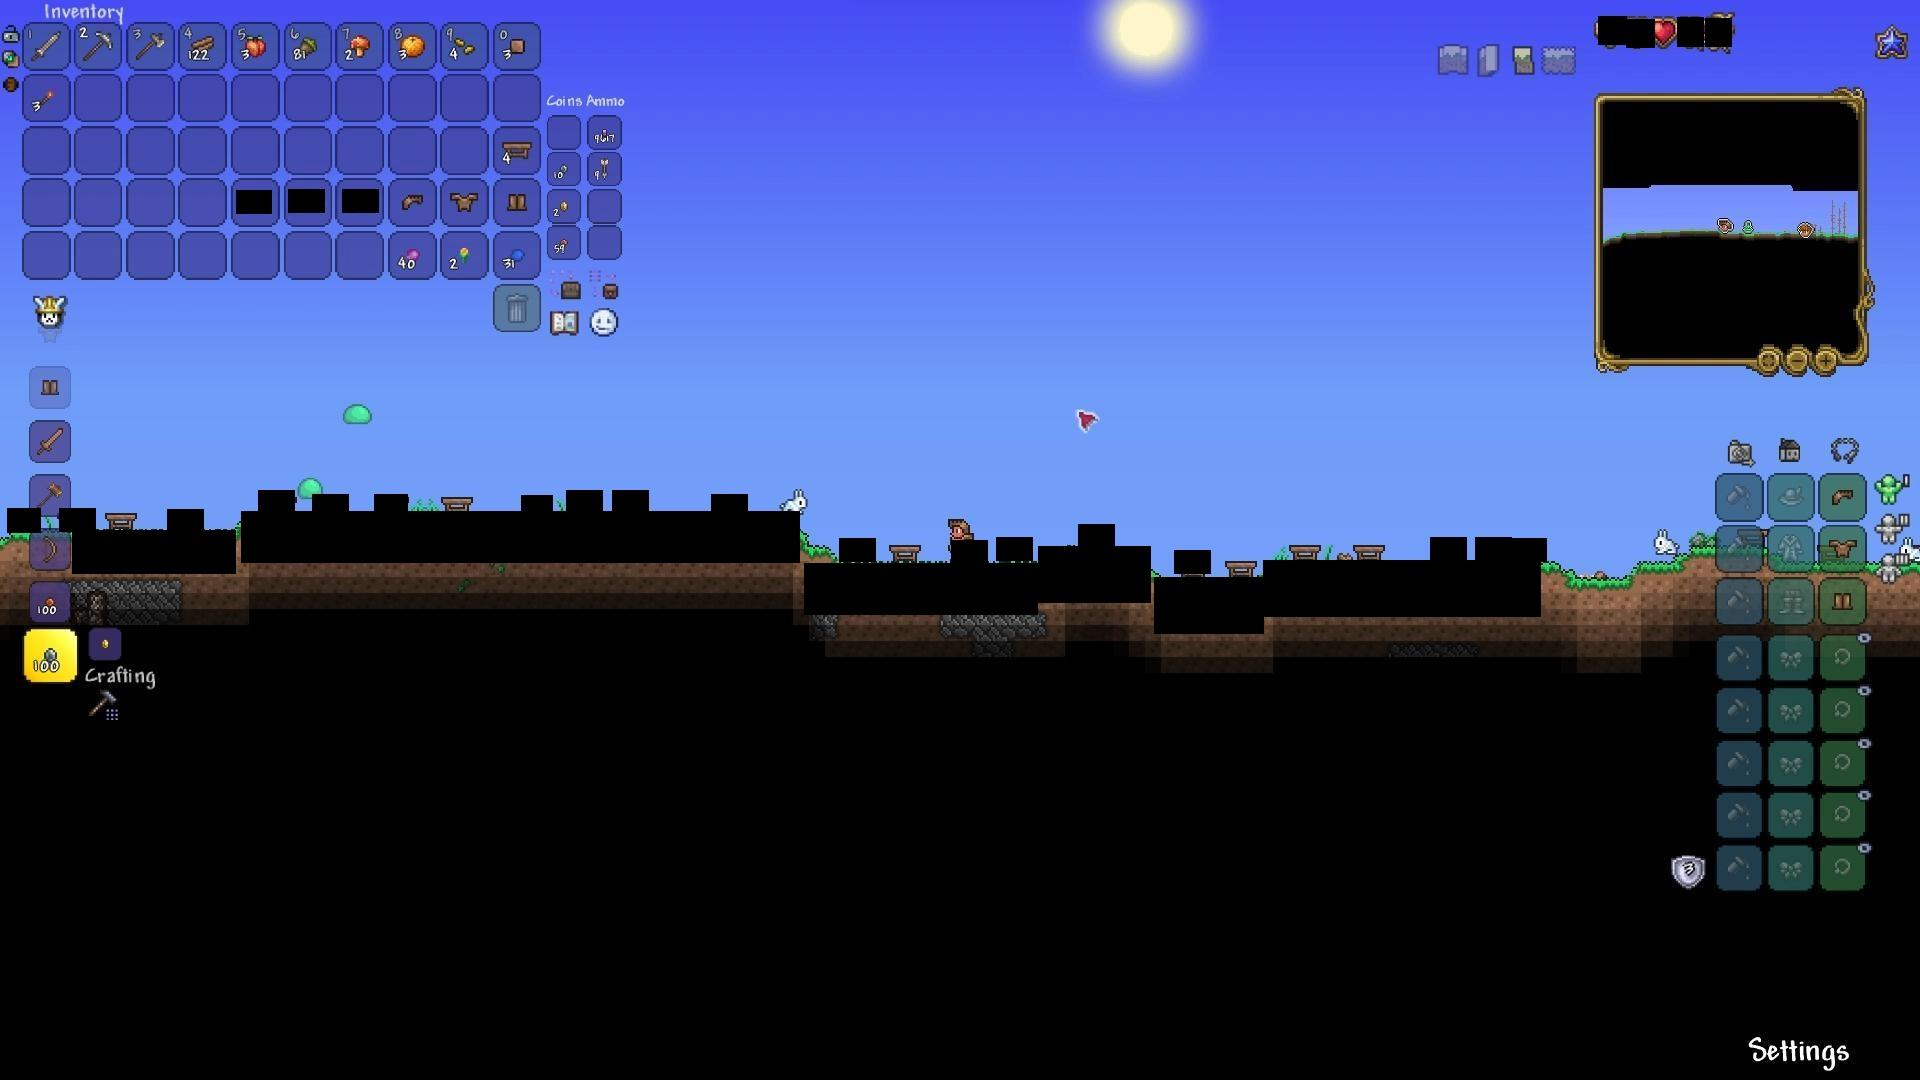breastplate: (450, 190, 479, 214), (1832, 537, 1859, 558)
dirt: (1547, 546, 1716, 601)
heart: (1650, 18, 1677, 47)
helmet: (401, 189, 430, 214), (1828, 484, 1857, 509)
legs: (501, 190, 527, 218), (1832, 588, 1858, 616)
slime: (340, 400, 377, 429), (298, 476, 330, 497)
wood: (189, 33, 218, 59)
workbench: (887, 543, 924, 567), (1287, 543, 1323, 567), (1221, 554, 1257, 578), (102, 506, 138, 529), (500, 137, 535, 160), (440, 496, 473, 520), (1352, 545, 1385, 566)
